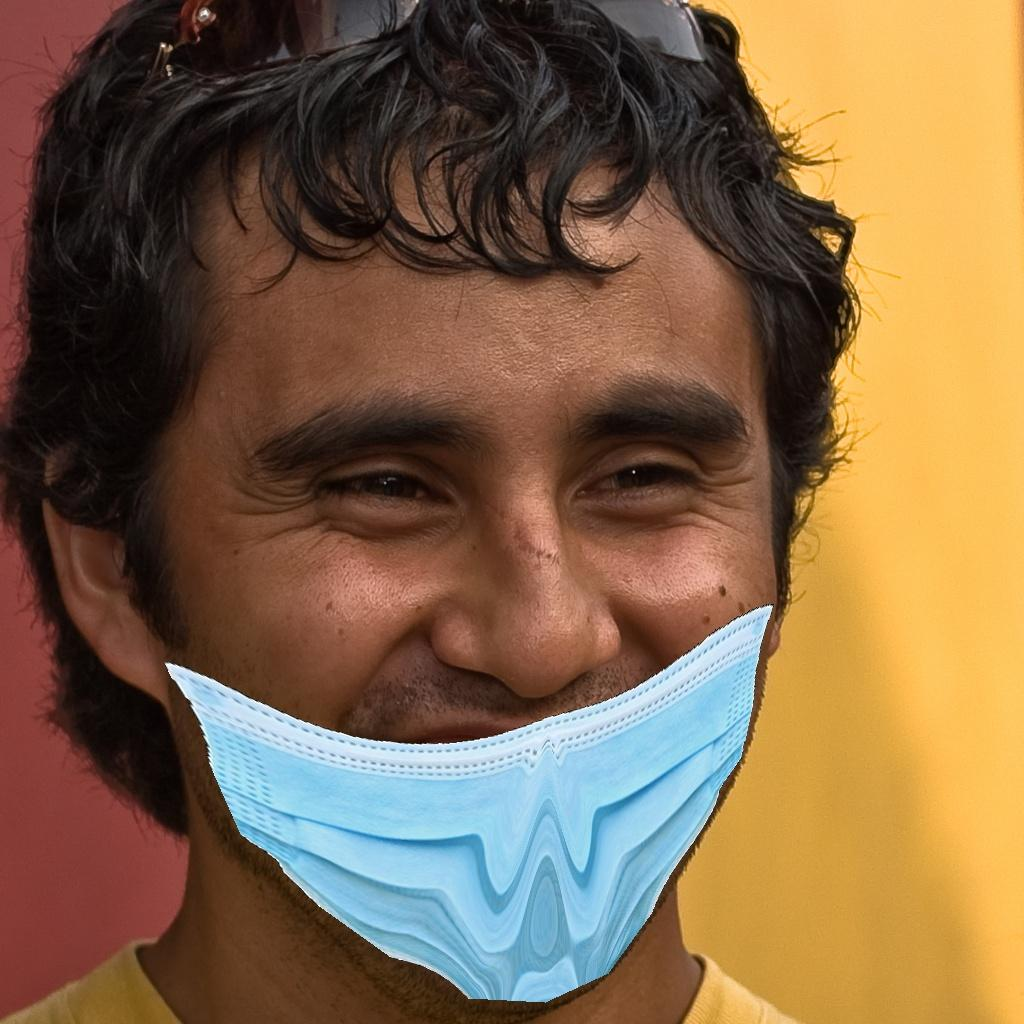Máscara Incorreta: (175, 284, 780, 969)
